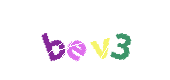3: (82, 0, 162, 80)
B: (23, 0, 103, 80)
E: (44, 0, 124, 80)
V: (61, 0, 141, 80)
